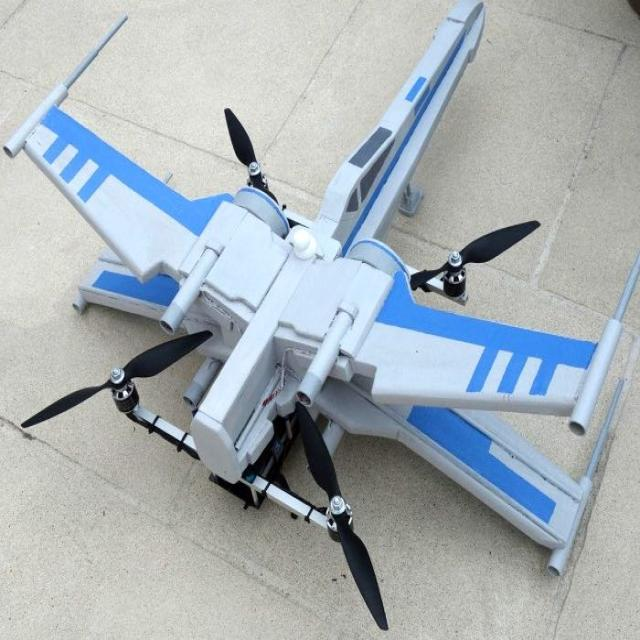drone: (25, 86, 556, 623)
